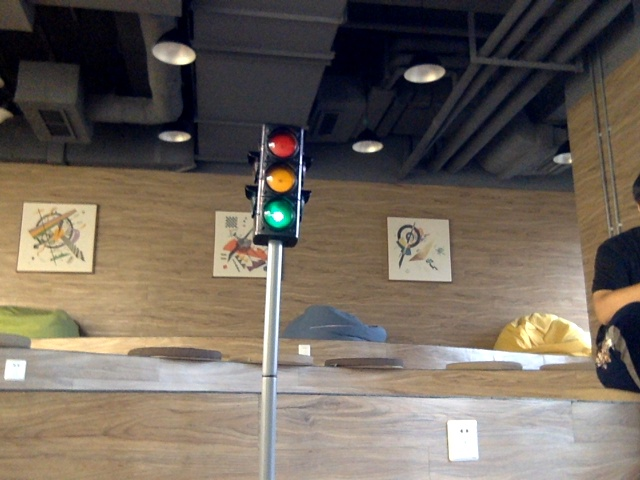green: (262, 129, 297, 233)
